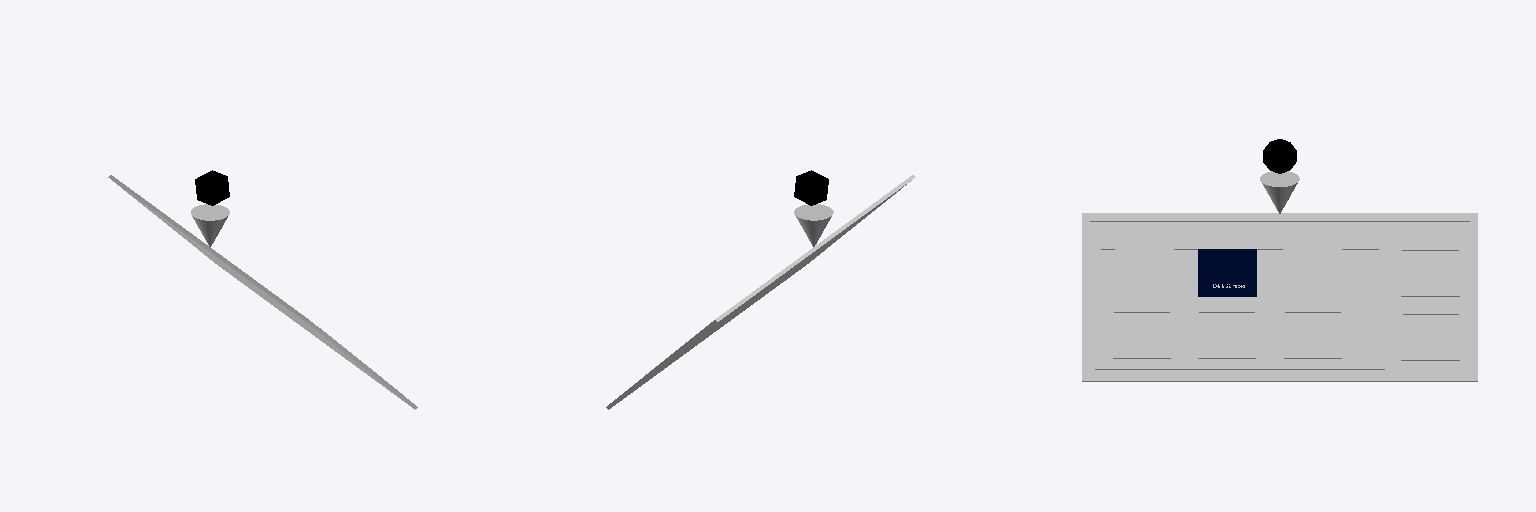
Rendered from prototype_inventaire.obj.
3 renders of one model, left to right at view 1: azimuth 30°, elevation 25°; view 2: azimuth 150°, elevation 25°; view 3: azimuth 270°, elevation 25°, orthographic.
Parts seen in each view (by area): view 1: écran_Cube, Cône, Icosphère; view 2: écran_Cube, Cône, Icosphère; view 3: écran_Cube, écran.002_Cube.011, écran.001_Cube.001, écran.003_Cube.012, écran.006_Cube.006, écran.009_Cube.009, écran.010_Cube.010, écran.007_Cube.013, écran.005_Cube.005, écran.004_Cube.004, Cône, Icosphère.
Part boxes in pixels (x1,y1,x2,y2): écran_Cube: (108,175,417,409); Cône: (191,204,229,246); Icosphère: (195,170,229,205); écran_Cube: (606,175,915,409); Cône: (794,204,833,246); Icosphère: (794,170,828,205); écran_Cube: (1082,213,1477,381); écran.002_Cube.011: (1095,242,1384,369); écran.001_Cube.001: (1401,248,1459,296); écran.003_Cube.012: (1401,312,1459,360); écran.006_Cube.006: (1113,310,1170,358); écran.009_Cube.009: (1284,310,1341,358); écran.010_Cube.010: (1198,310,1255,358); écran.007_Cube.013: (1283,249,1341,296); écran.005_Cube.005: (1198,249,1256,296); écran.004_Cube.004: (1115,249,1173,296); Cône: (1260,171,1299,213); Icosphère: (1263,139,1296,173).
Size of the model in its own units: 0.7338 by 1.07 by 2.